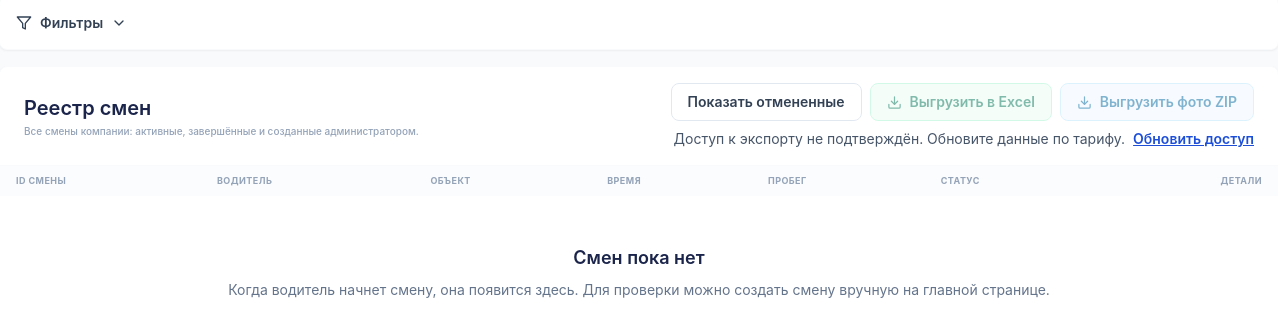
Test case: keeps billing errors neutral and supports explicit retry
Expected: the heading "Реестр смен" is shown, [24,96,151,120]
Expected: the text "Доступ к экспорту не подтверждён. Обновите данные по тарифу. Обновить доступ" is shown, [674,129,1254,149]
Click the button "Обновить доступ" at (1194, 139), box [1133,129,1254,149]
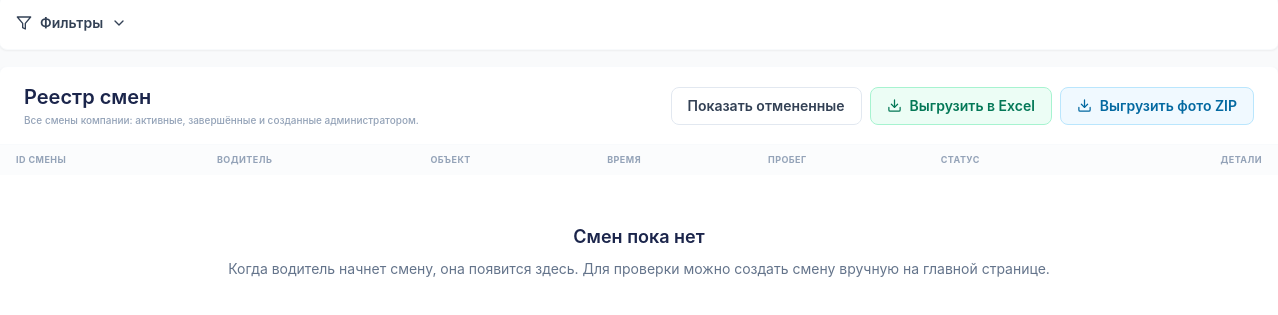
Result: the button "Выгрузить в Excel" is enabled at [870,86,1052,124]
